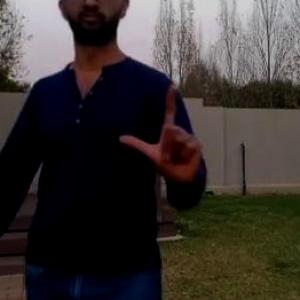land_hand: (114, 76, 213, 197)
